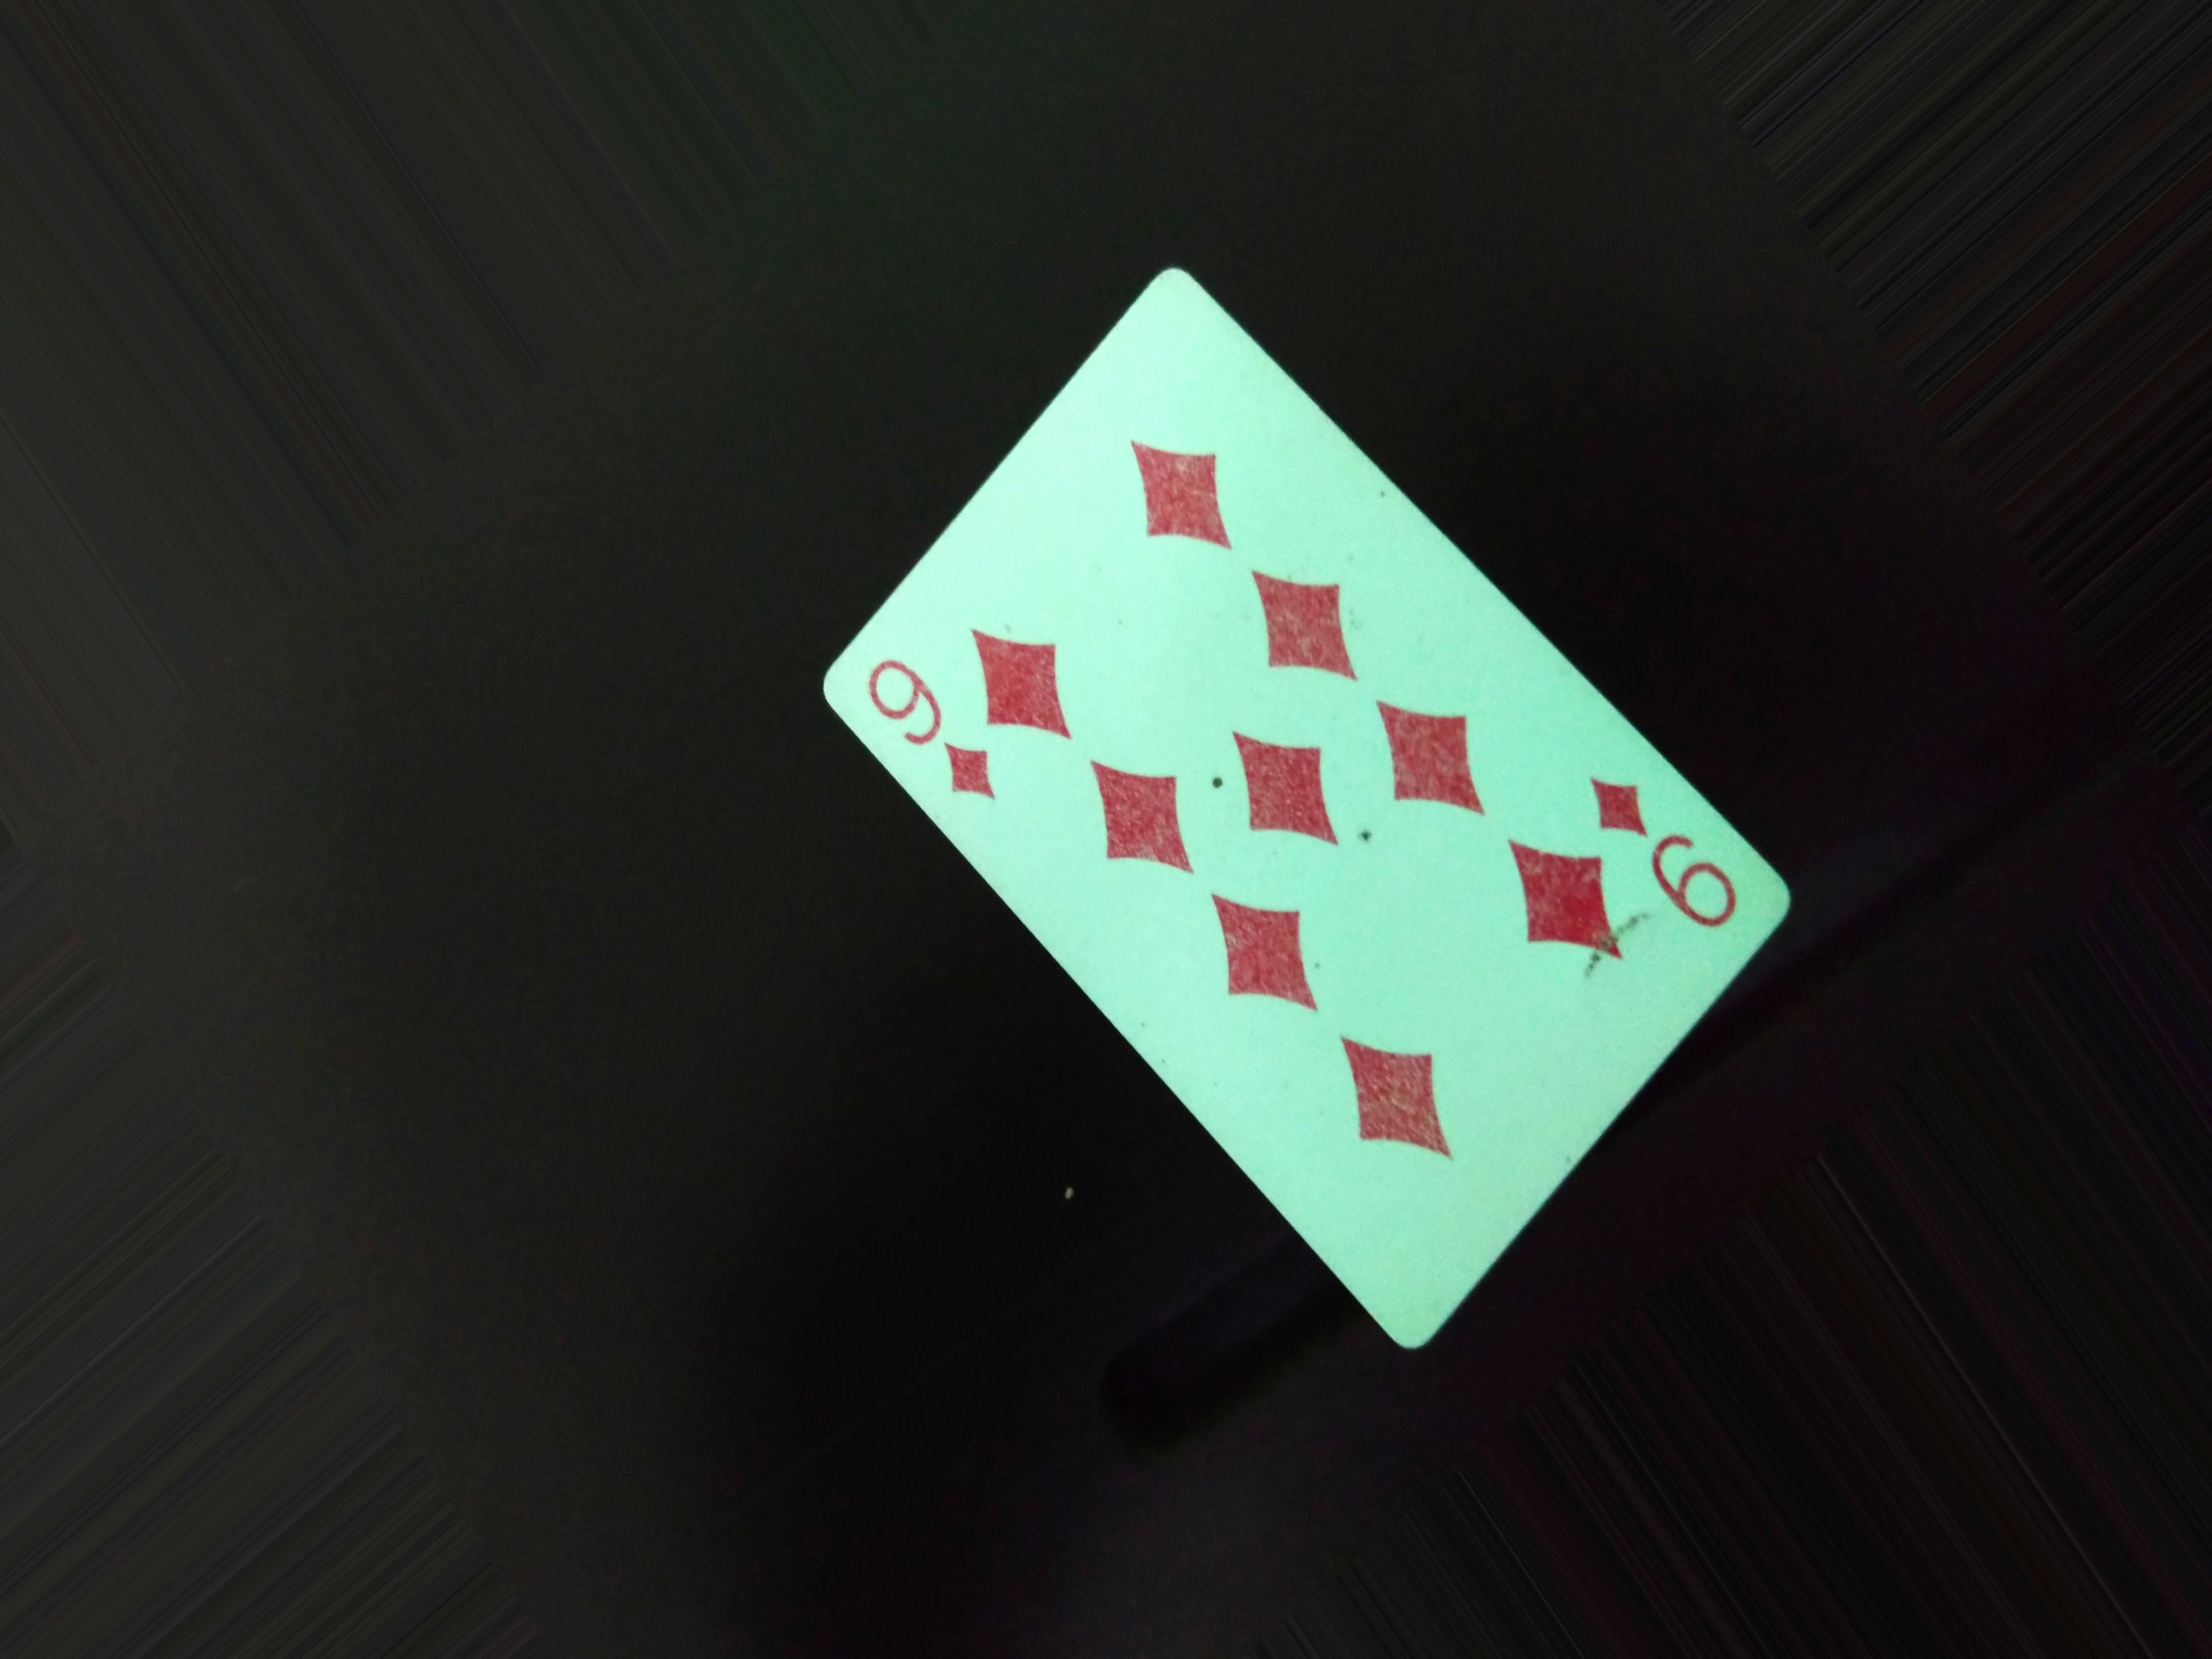9D: (1585, 760, 1775, 948)
